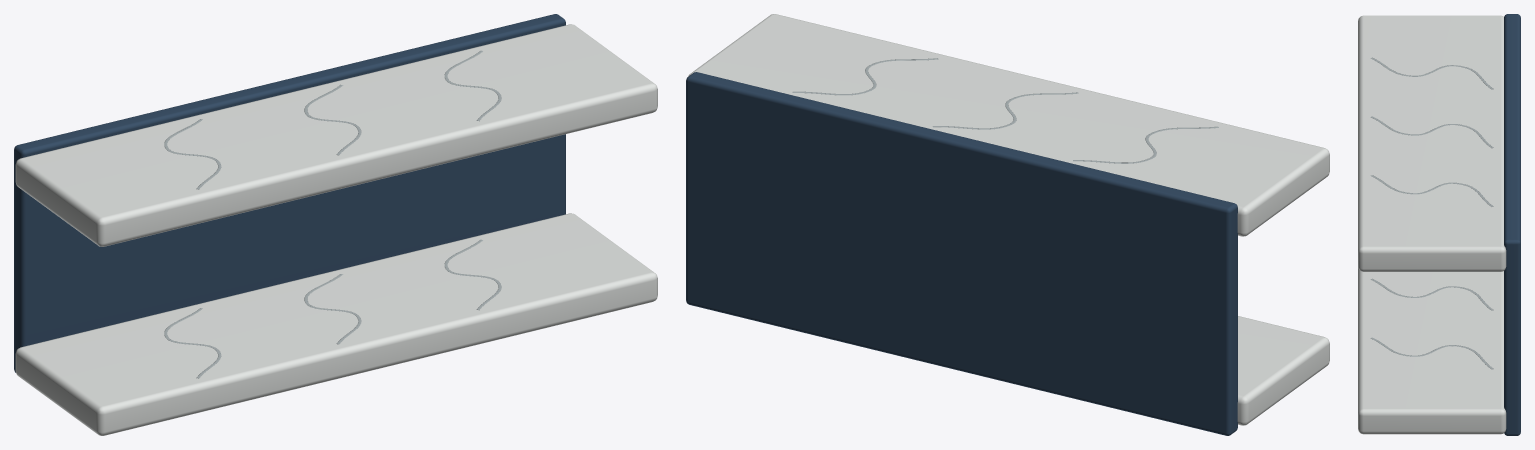
The model's file is kitchenModernShelfNavy.glb.
The picture shows the model from 3 angles, left to right: view 1: azimuth 30°, elevation 25°; view 2: azimuth 150°, elevation 25°; view 3: azimuth 270°, elevation 25°; orthographic projection. The views are drawn at different scales.
Parts seen in each view (by area): view 1: Wall shelf.001, Wall shelf, Wall backplate; view 2: Wall backplate, Wall shelf.001, Wall shelf; view 3: Wall shelf.001, Wall shelf, Wall backplate, Fine stone vein.002, Fine stone vein.001, Fine stone vein.003, Fine stone vein.005, Fine stone vein.004.
Part boxes in pixels (x1,y1,x2,y2): Wall shelf.001: (15,24,657,246); Wall shelf: (15,213,657,435); Wall backplate: (14,14,565,372); Wall backplate: (686,72,1237,435); Wall shelf.001: (688,14,1329,236); Wall shelf: (1237,316,1329,425); Wall shelf.001: (1358,15,1506,271); Wall shelf: (1358,267,1506,434); Wall backplate: (1504,14,1520,435); Fine stone vein.002: (1370,337,1493,369); Fine stone vein.001: (1370,278,1493,310); Fine stone vein.003: (1370,57,1493,89); Fine stone vein.005: (1370,175,1493,206); Fine stone vein.004: (1370,116,1493,148).
Size of the model in its own units: 1.8 by 0.705 by 0.5275.
